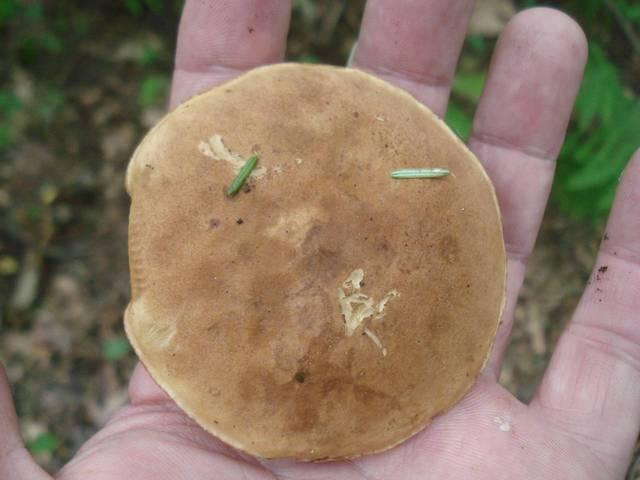poisonous_mushroom: (121, 60, 509, 462)
